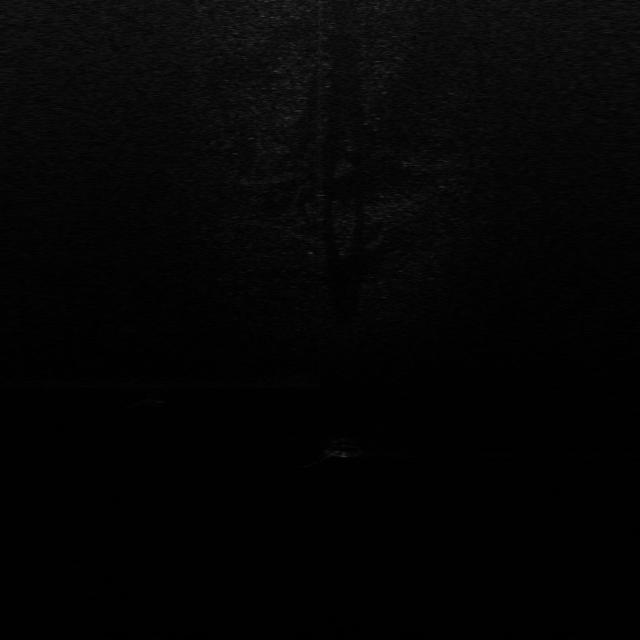ball: (143, 389, 172, 405)
tyre: (324, 437, 366, 459)
